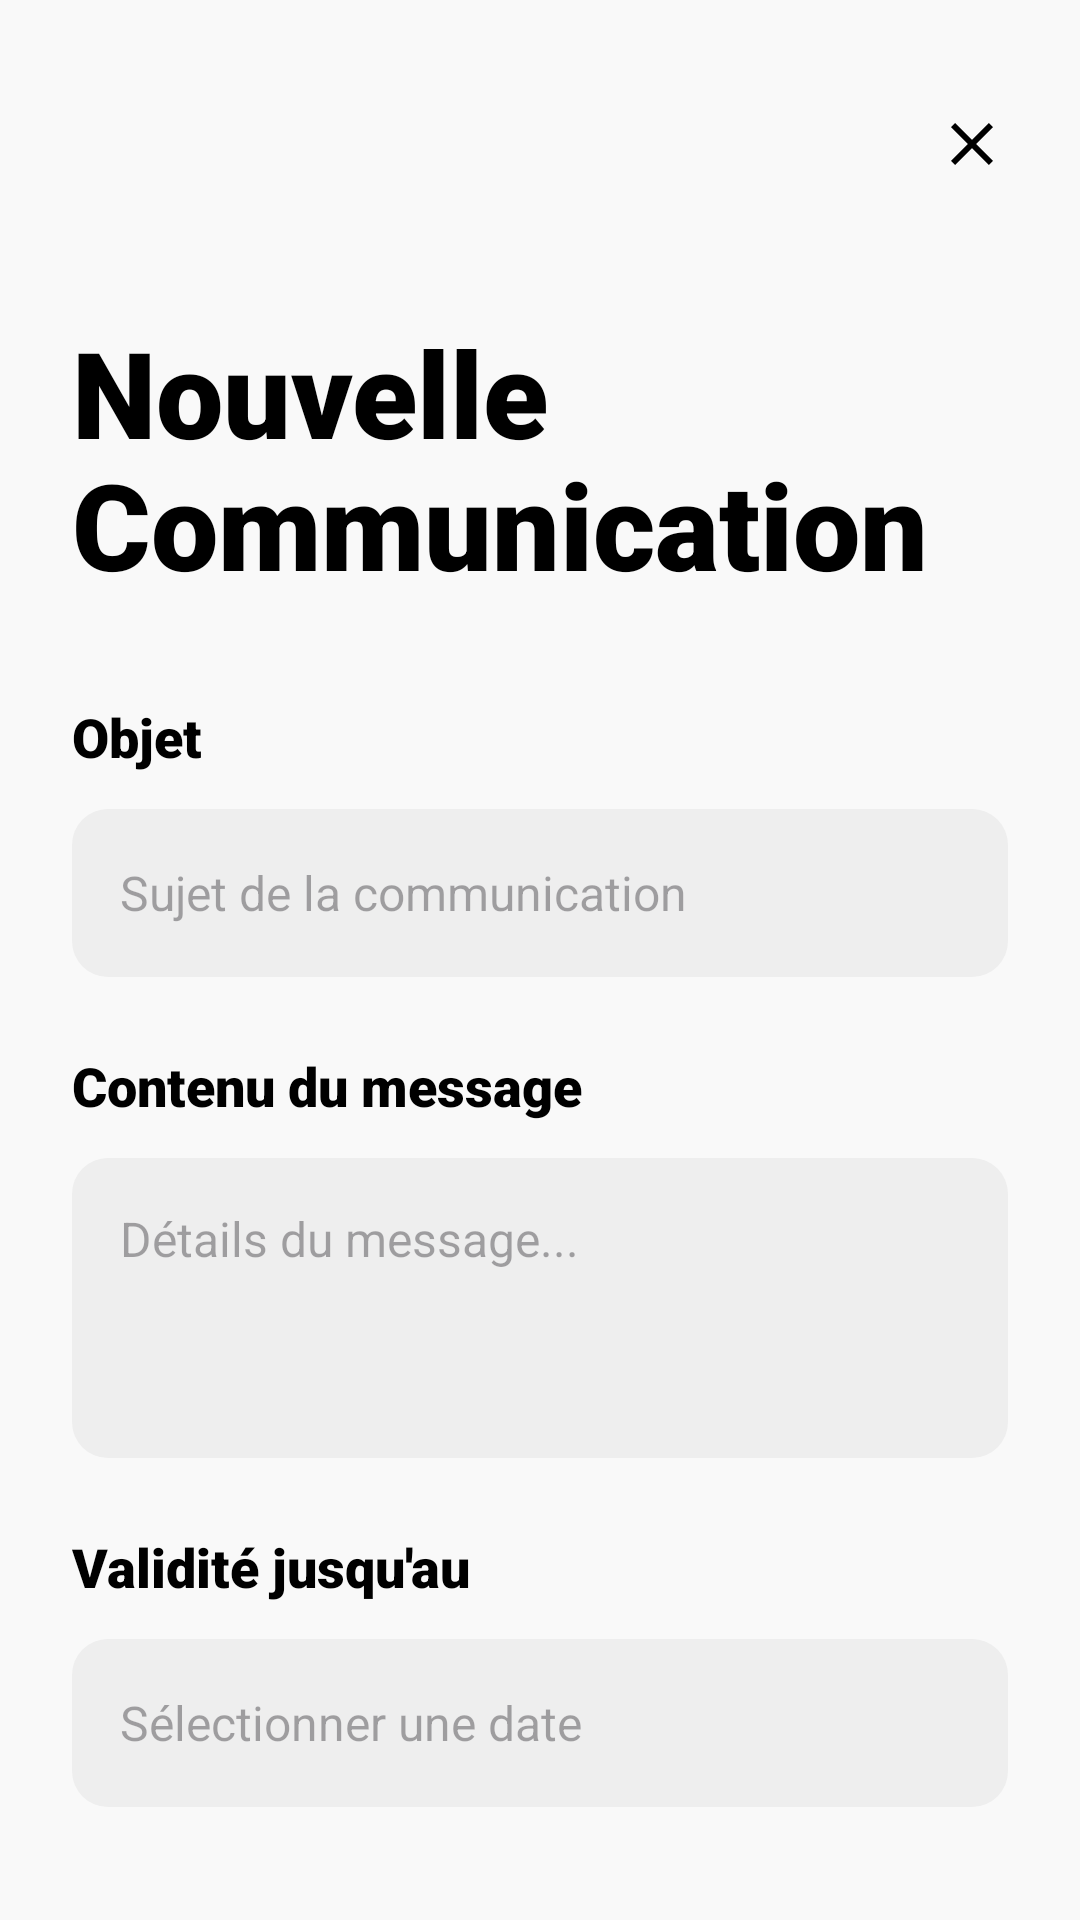

Icon click points for this 1080w x 1920h phone screenshot, format (x,y):
close: (972,144)
